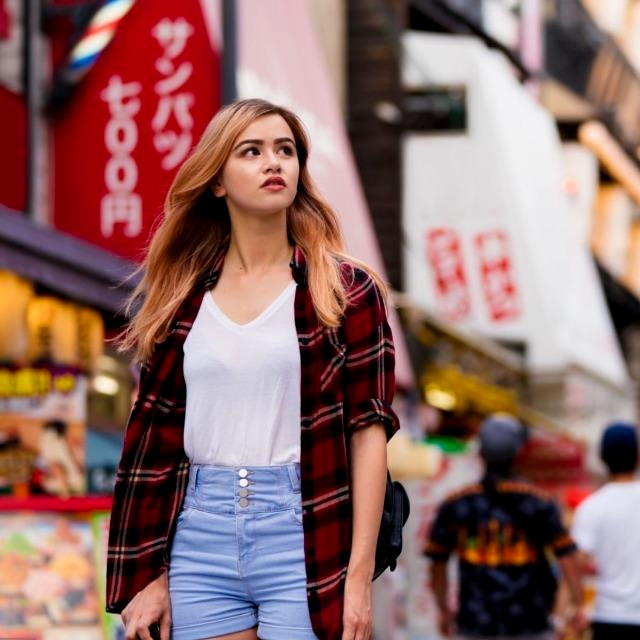Sin_Casco_Mascarrilla: (202, 98, 310, 220)
Sin_Chaleco: (154, 240, 365, 475)
